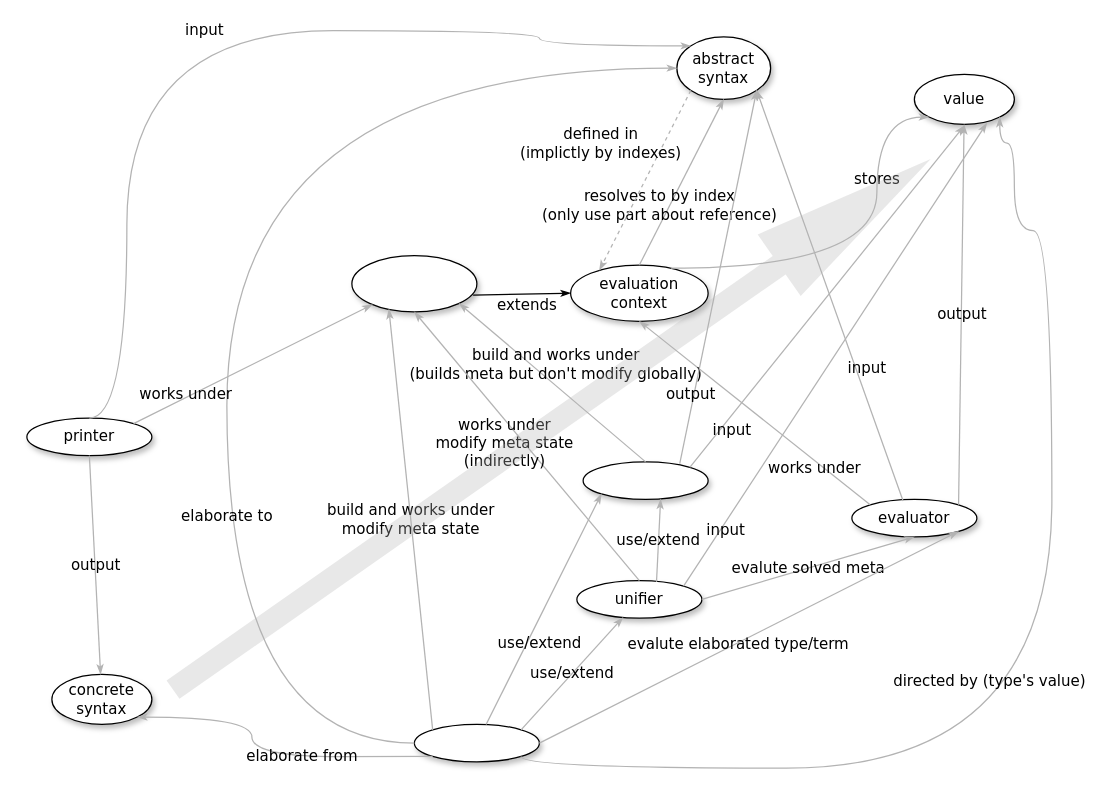
The diagram is 1108 pixels wide and 793 high, and some of its shapes have lost their labels. The centre of each missing label's shape, as x and y in pixels:
"elaboration context" goes at (x=415, y=285).
"elaborator" goes at (x=477, y=744).
"reifer" goes at (x=646, y=482).
